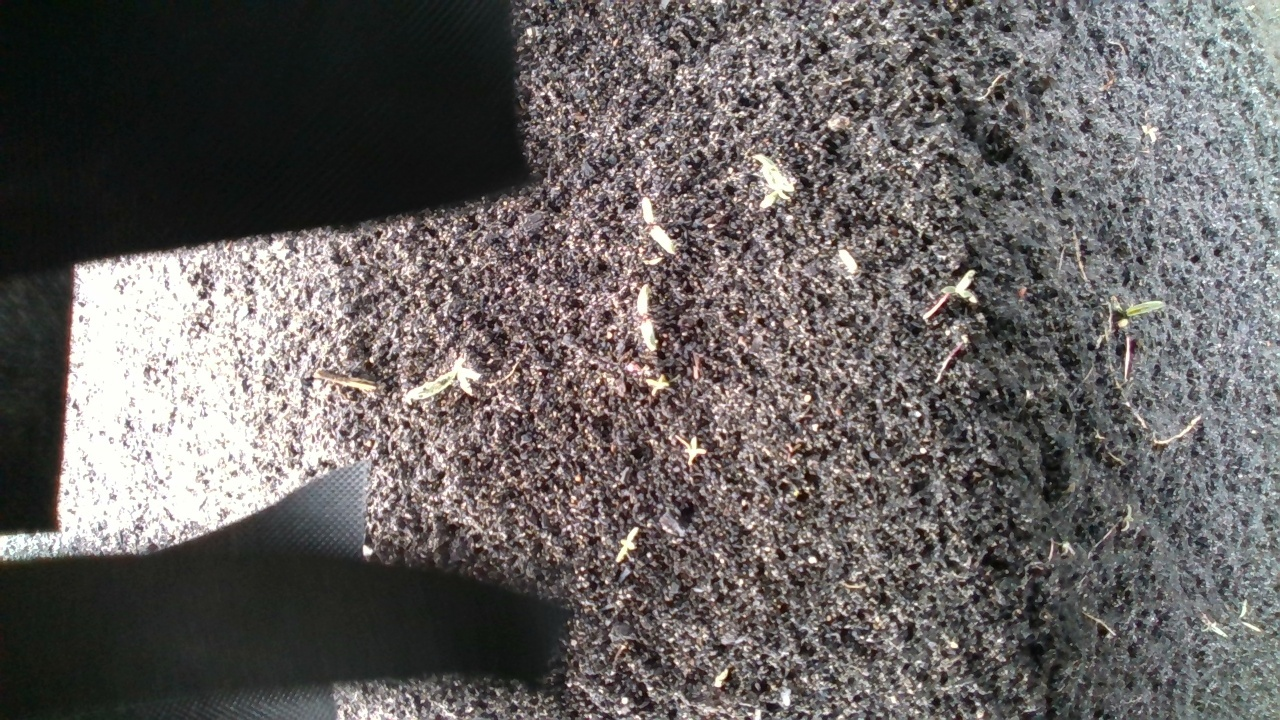weed: (631, 194, 699, 265), (1112, 289, 1170, 356), (634, 282, 660, 351), (947, 267, 984, 307), (614, 524, 643, 562), (682, 436, 706, 466), (645, 373, 670, 397)
